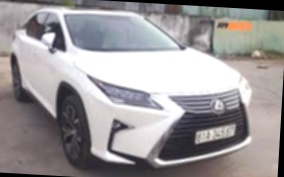Bien-so: (204, 112, 243, 136)
